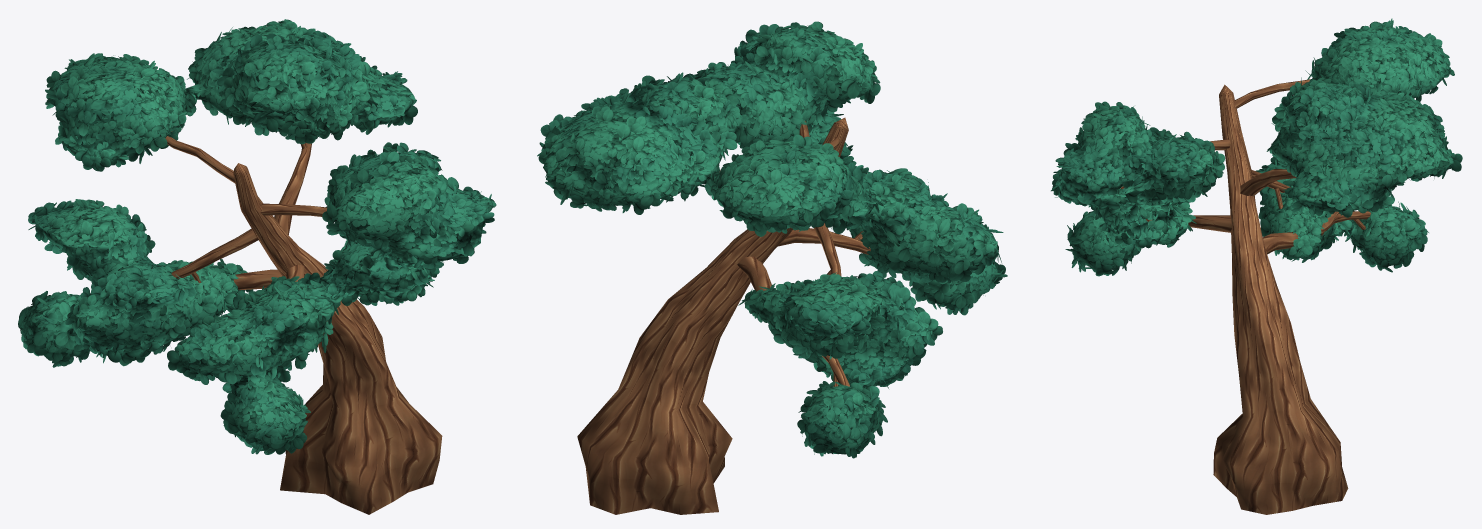
The model's file is jpine_v2.glb.
The picture shows the model from 3 angles, left to right: view 1: azimuth 30°, elevation 25°; view 2: azimuth 150°, elevation 25°; view 3: azimuth 270°, elevation 25°; orthographic projection. The views are drawn at different scales.
Visible parts, largest first — view 1: jpine_v2_leaves_LOD0, jpine_v2_volume_LOD0, jpine_v2_trunk_LOD0; view 2: jpine_v2_leaves_LOD0, jpine_v2_volume_LOD0, jpine_v2_trunk_LOD0; view 3: jpine_v2_leaves_LOD0, jpine_v2_trunk_LOD0, jpine_v2_volume_LOD0.
Part boxes in pixels (x1=…): jpine_v2_leaves_LOD0: x1=18, y1=19, x2=496, y2=454; jpine_v2_volume_LOD0: x1=20, y1=25, x2=489, y2=445; jpine_v2_trunk_LOD0: x1=165, y1=131, x2=442, y2=514; jpine_v2_leaves_LOD0: x1=537, y1=21, x2=1007, y2=458; jpine_v2_volume_LOD0: x1=543, y1=28, x2=998, y2=454; jpine_v2_trunk_LOD0: x1=577, y1=117, x2=870, y2=514; jpine_v2_leaves_LOD0: x1=1051, y1=18, x2=1462, y2=276; jpine_v2_trunk_LOD0: x1=1120, y1=79, x2=1370, y2=514; jpine_v2_volume_LOD0: x1=1058, y1=29, x2=1451, y2=269.
Size of what is drawn, in the model's own units: 6.74 by 7.58 by 7.46.
3 materials, 3 textured.
